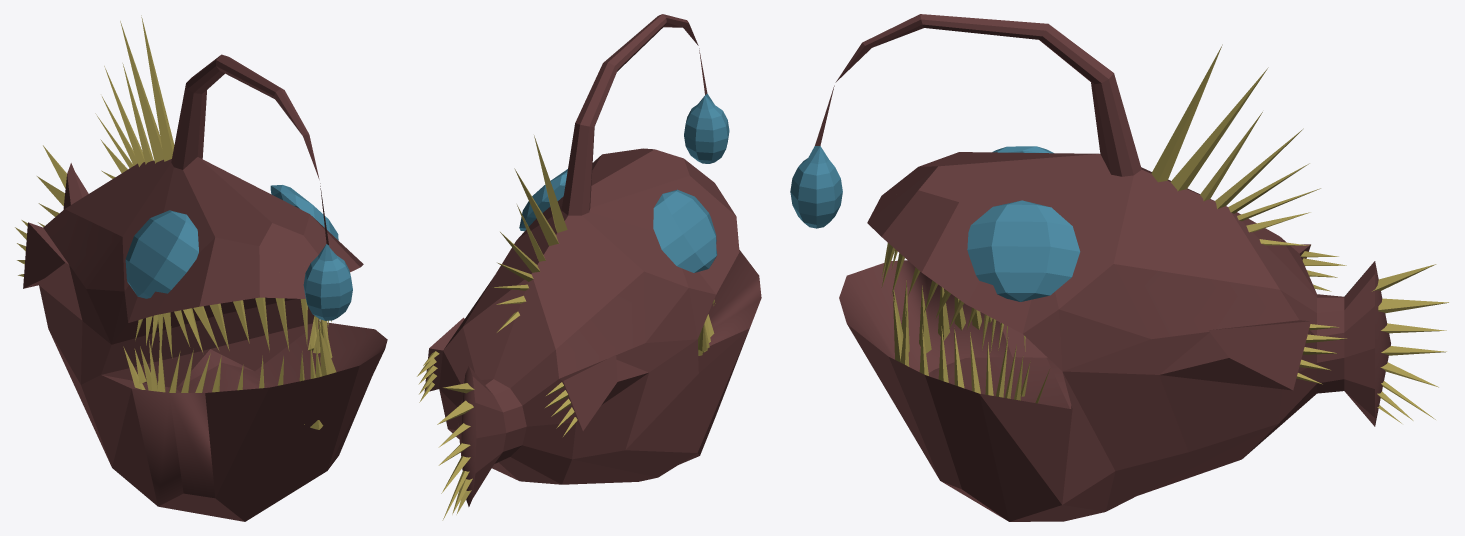
Rendered from anglerfish.fbx.
The picture shows the model from 3 angles, left to right: view 1: azimuth 30°, elevation 25°; view 2: azimuth 150°, elevation 25°; view 3: azimuth 270°, elevation 25°; orthographic projection. The views are drawn at different scales.
Visible parts, largest first — view 1: corpo1, denti_e_spine, occhi_e_lanterna1; view 2: corpo1, occhi_e_lanterna1, denti_e_spine; view 3: corpo1, denti_e_spine, occhi_e_lanterna1.
Part boxes in pixels (x1,y1,x2,y2): corpo1: [23, 54, 387, 521]; denti_e_spine: [15, 15, 336, 429]; occhi_e_lanterna1: [125, 185, 352, 320]; corpo1: [424, 14, 761, 506]; occhi_e_lanterna1: [519, 93, 729, 272]; denti_e_spine: [417, 135, 715, 520]; corpo1: [815, 14, 1390, 521]; denti_e_spine: [881, 44, 1448, 423]; occhi_e_lanterna1: [790, 146, 1080, 301].
Bounding box in the file's own units: 1.86 × 3.34 × 4.01.
